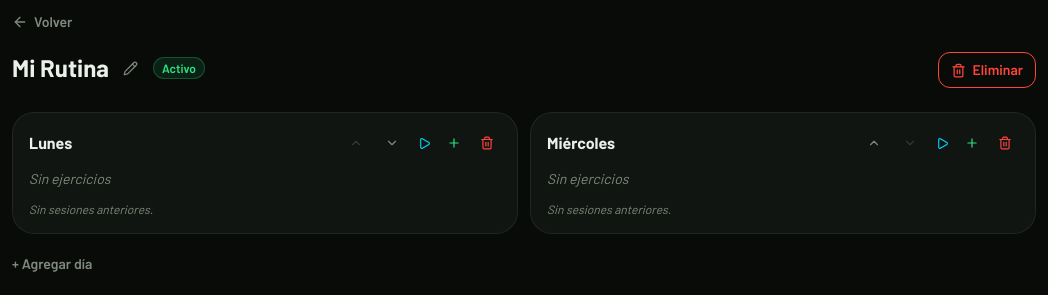
Scenario: add training day (day chip picker) › opens the picker with only days not already in the workout
Expected: the heading "Mi Rutina" is shown, [12,52,109,84]
Click the button "+ Agregar día".
click(52, 264)  # box [12,250,92,278]
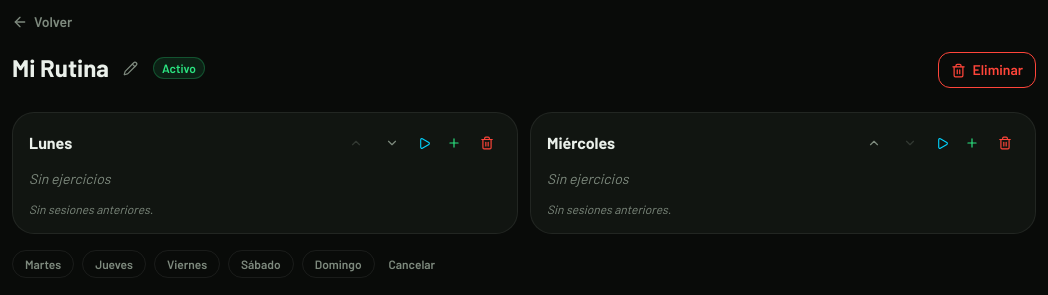
Now the button "Martes" is shown, box [12,250,74,278]
Now the button "Jueves" is shown, box [82,250,146,278]
Now the button "Viernes" is shown, box [154,250,220,278]
